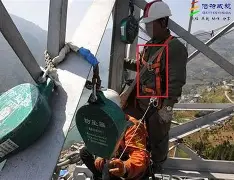safety belt: (136, 45, 169, 99)
